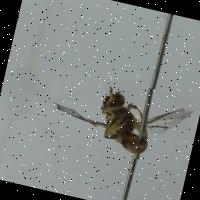Oriental-fruit-fly: (39, 66, 196, 169)
